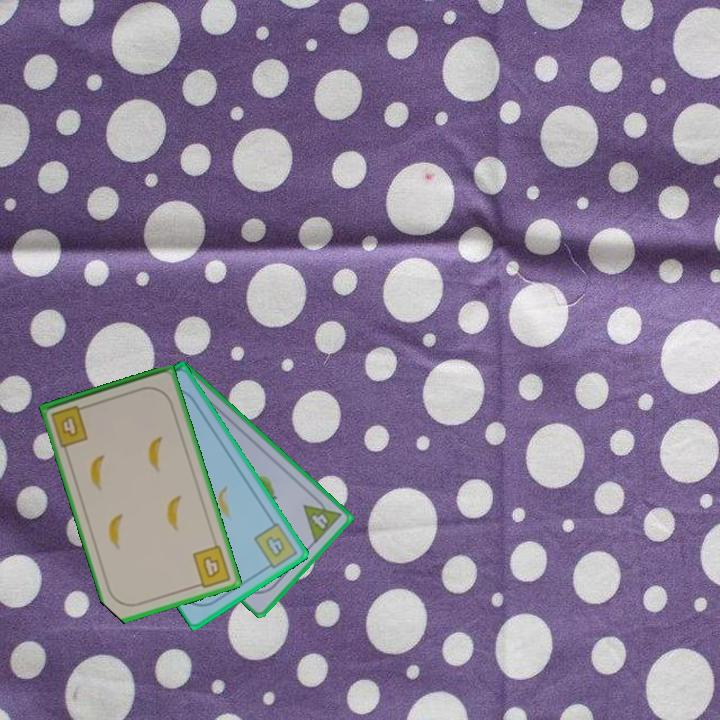4b: (250, 519, 301, 573), (189, 542, 234, 591), (47, 402, 91, 450)
4p: (300, 491, 344, 546)
